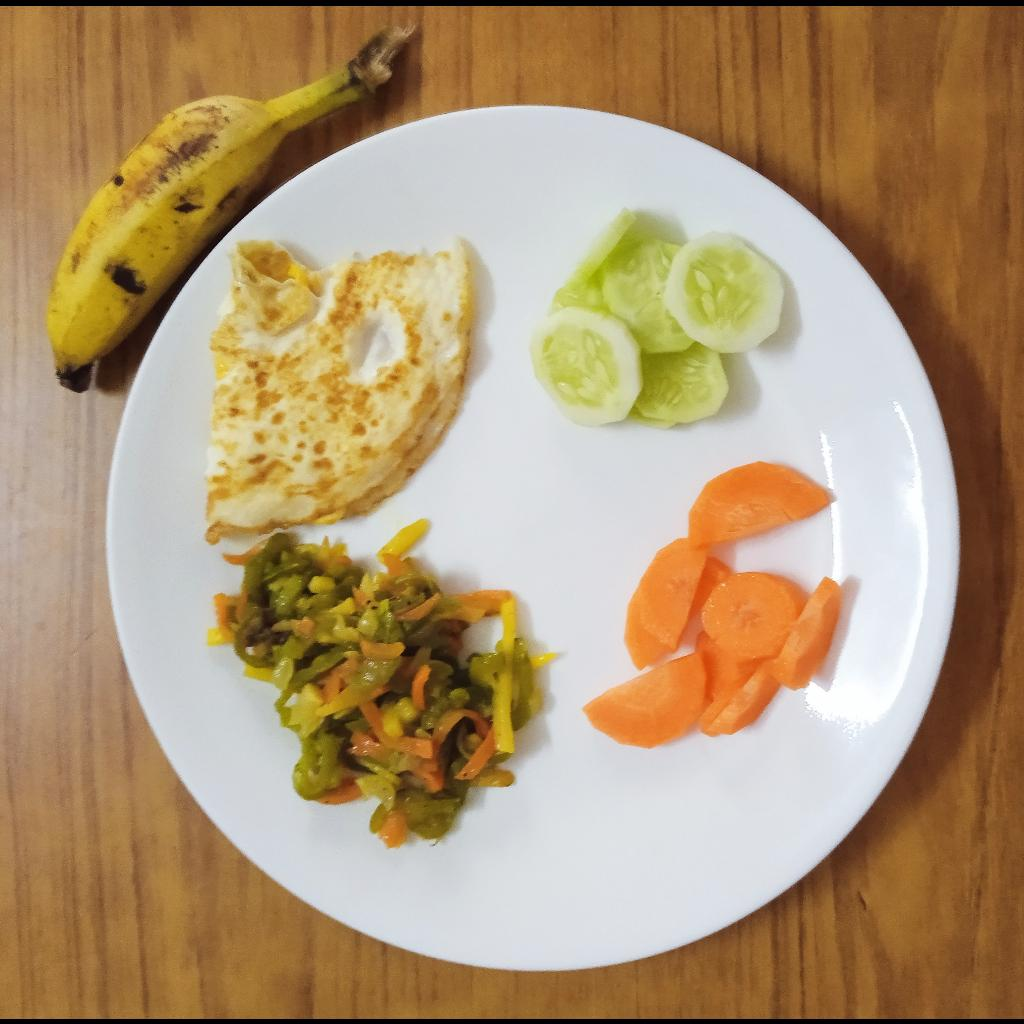banana: (43, 63, 369, 395)
carrot: (581, 458, 842, 749)
cucumber: (530, 206, 790, 428)
egg-poached: (207, 239, 472, 540)
vegetable: (207, 514, 544, 846)
